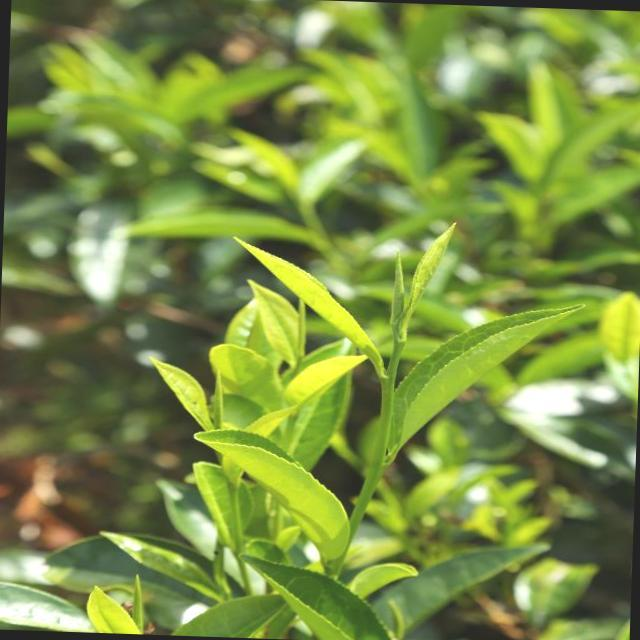Stem: (382, 374, 394, 389)
